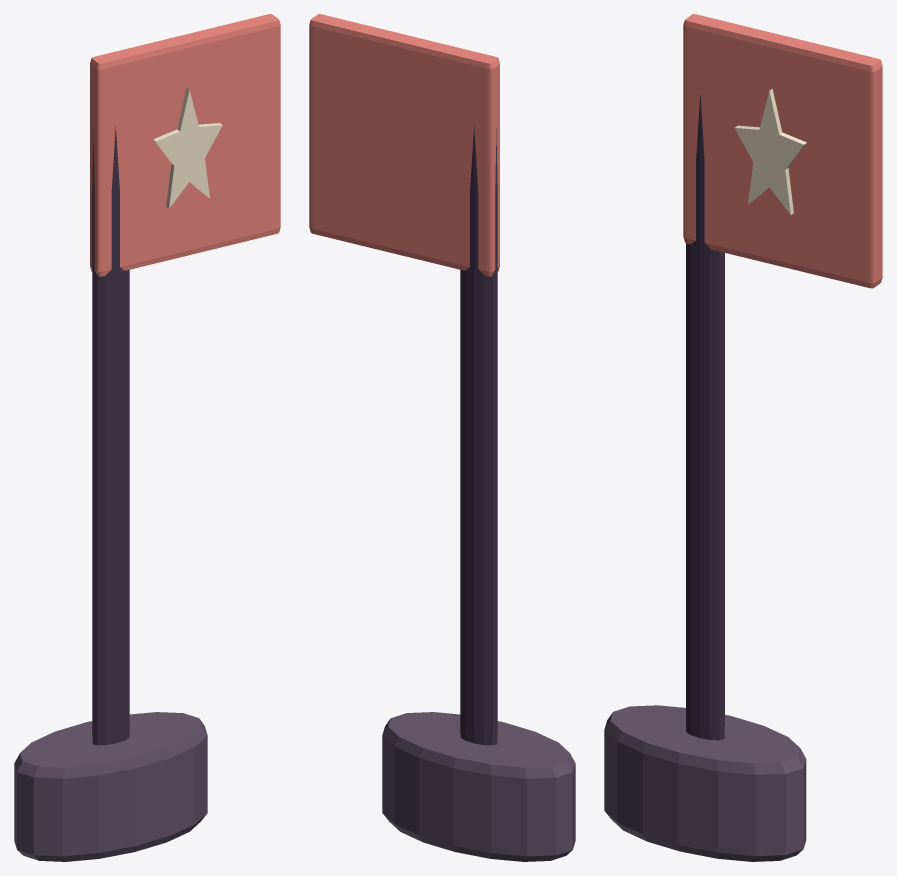
File: shop_flag.glb
3 renders of one model, left to right at view 1: azimuth 30°, elevation 25°; view 2: azimuth 150°, elevation 25°; view 3: azimuth 330°, elevation 25°, orthographic. The views are drawn at different scales.
Visible parts, largest first — view 1: model; view 2: model; view 3: model.
Boxes of the visible parts, left/top/right/bottom form: model: left=14, top=14, right=280, bottom=861; model: left=309, top=14, right=575, bottom=861; model: left=604, top=14, right=882, bottom=861.
Bounding box in the file's own units: 0.35 × 1 × 0.12.
